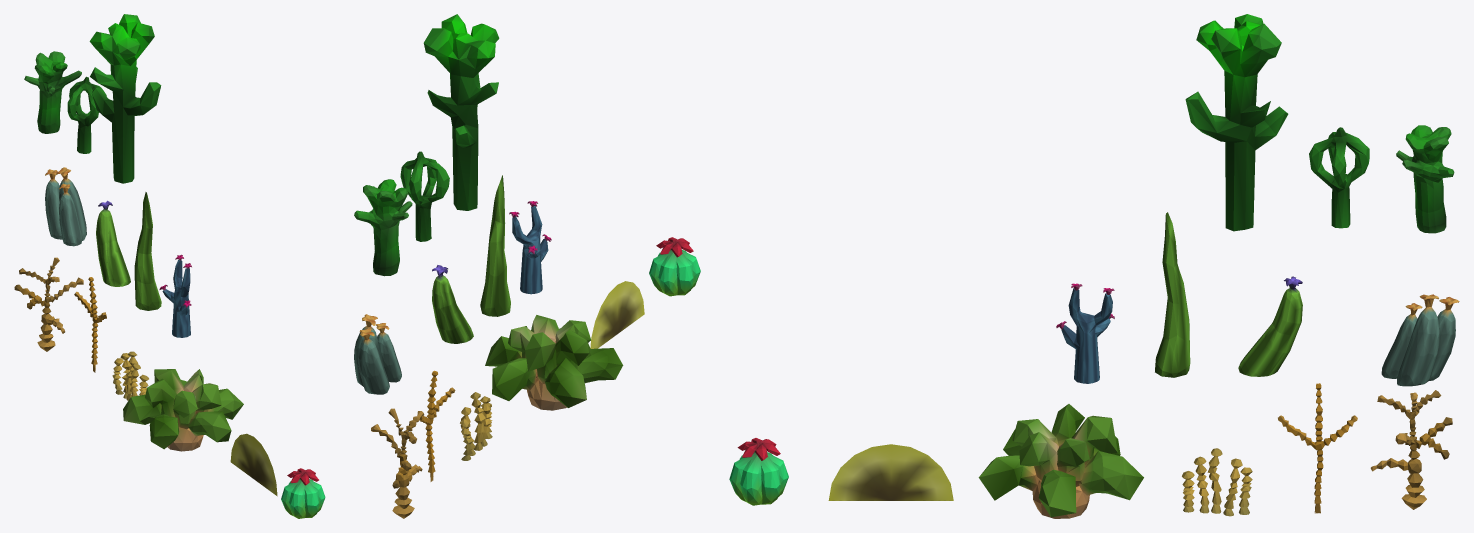
3 views of the same model, side by side, from view 1: azimuth 30°, elevation 25°; view 2: azimuth 150°, elevation 25°; view 3: azimuth 270°, elevation 25° (orthographic). The views are drawn at different scales.
Visible parts, largest first — view 1: Cactus_10_Cactus_10_0, Cactus_1_2_2_Cactus_1_0, Cactus_1_1_Cactus_1_0, Cactus_4_Cactus_6_0, Cactus_3_Cactus_5_0, Cactus_12_cactus_11_0, Cactus_11_cactus_12_0, Cactus_6_Cactus_7_0, Cactus_5_Cactus_9_0, Cactus_1_2_Cactus_1_0, Cactus_9_cactus_17_0, Cactus_4_1_Cactus_4_0 (+3 smaller); view 2: Cactus_10_Cactus_10_0, Cactus_1_2_2_Cactus_1_0, Cactus_1_1_Cactus_1_0, Cactus_4_Cactus_6_0, Cactus_1_2_Cactus_1_0, Cactus_12_cactus_11_0, Cactus_11_cactus_12_0, Cactus_5_Cactus_9_0, Cactus_3_Cactus_5_0, Cactus_6_Cactus_7_0, Cactus_4_2_2_Cactus_4_0, Cactus_9_cactus_17_0 (+3 smaller); view 3: Cactus_10_Cactus_10_0, Cactus_1_2_2_Cactus_1_0, Cactus_11_cactus_12_0, Cactus_1_1_Cactus_1_0, Cactus_4_Cactus_6_0, Cactus_1_2_Cactus_1_0, Cactus_12_cactus_11_0, Cactus_3_Cactus_5_0, Cactus_5_Cactus_9_0, Cactus_6_Cactus_7_0, Cactus_9_cactus_17_0, Cactus_4_2_Cactus_4_0 (+3 smaller).
Boxes of the visible parts, x1=… form: Cactus_10_Cactus_10_0: x1=123, y1=369, x2=243, y2=451; Cactus_1_2_2_Cactus_1_0: x1=89, y1=14, x2=161, y2=183; Cactus_1_1_Cactus_1_0: x1=24, y1=51, x2=81, y2=133; Cactus_4_Cactus_6_0: x1=134, y1=192, x2=161, y2=310; Cactus_3_Cactus_5_0: x1=96, y1=200, x2=130, y2=286; Cactus_12_cactus_11_0: x1=281, y1=468, x2=325, y2=518; Cactus_11_cactus_12_0: x1=230, y1=433, x2=277, y2=496; Cactus_6_Cactus_7_0: x1=14, y1=257, x2=83, y2=351; Cactus_5_Cactus_9_0: x1=159, y1=254, x2=191, y2=337; Cactus_1_2_Cactus_1_0: x1=67, y1=76, x2=106, y2=153; Cactus_9_cactus_17_0: x1=112, y1=351, x2=148, y2=400; Cactus_4_1_Cactus_4_0: x1=59, y1=183, x2=82, y2=246; Cactus_10_Cactus_10_0: x1=485, y1=315, x2=623, y2=410; Cactus_1_2_2_Cactus_1_0: x1=423, y1=14, x2=499, y2=210; Cactus_1_1_Cactus_1_0: x1=354, y1=179, x2=412, y2=276; Cactus_4_Cactus_6_0: x1=480, y1=175, x2=510, y2=316; Cactus_1_2_Cactus_1_0: x1=400, y1=151, x2=449, y2=241; Cactus_12_cactus_11_0: x1=649, y1=237, x2=700, y2=296; Cactus_11_cactus_12_0: x1=590, y1=281, x2=644, y2=348; Cactus_5_Cactus_9_0: x1=509, y1=201, x2=551, y2=294; Cactus_3_Cactus_5_0: x1=432, y1=265, x2=473, y2=343; Cactus_6_Cactus_7_0: x1=371, y1=408, x2=424, y2=518; Cactus_4_2_2_Cactus_4_0: x1=358, y1=328, x2=389, y2=394; Cactus_9_cactus_17_0: x1=460, y1=392, x2=492, y2=460; Cactus_10_Cactus_10_0: x1=978, y1=404, x2=1143, y2=518; Cactus_1_2_2_Cactus_1_0: x1=1185, y1=14, x2=1288, y2=231; Cactus_11_cactus_12_0: x1=828, y1=444, x2=953, y2=500; Cactus_1_1_Cactus_1_0: x1=1396, y1=125, x2=1454, y2=233; Cactus_4_Cactus_6_0: x1=1155, y1=212, x2=1190, y2=377; Cactus_1_2_Cactus_1_0: x1=1309, y1=127, x2=1369, y2=228; Cactus_12_cactus_11_0: x1=729, y1=438, x2=788, y2=505; Cactus_3_Cactus_5_0: x1=1238, y1=276, x2=1302, y2=376; Cactus_5_Cactus_9_0: x1=1056, y1=283, x2=1114, y2=383; Cactus_6_Cactus_7_0: x1=1370, y1=390, x2=1452, y2=509; Cactus_9_cactus_17_0: x1=1182, y1=448, x2=1252, y2=516; Cactus_4_2_Cactus_4_0: x1=1397, y1=294, x2=1439, y2=386.
Bounding box in the file's own units: 512 × 1803 × 2385.
Materials: 11 (11 with a texture image).
